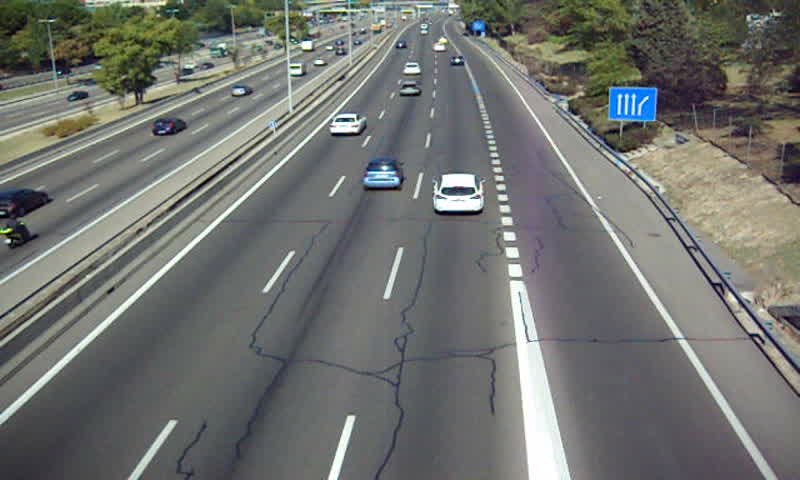car: (431, 174, 487, 213), (361, 159, 404, 192), (329, 115, 364, 136), (401, 82, 421, 96), (402, 62, 421, 76), (450, 54, 466, 66)
